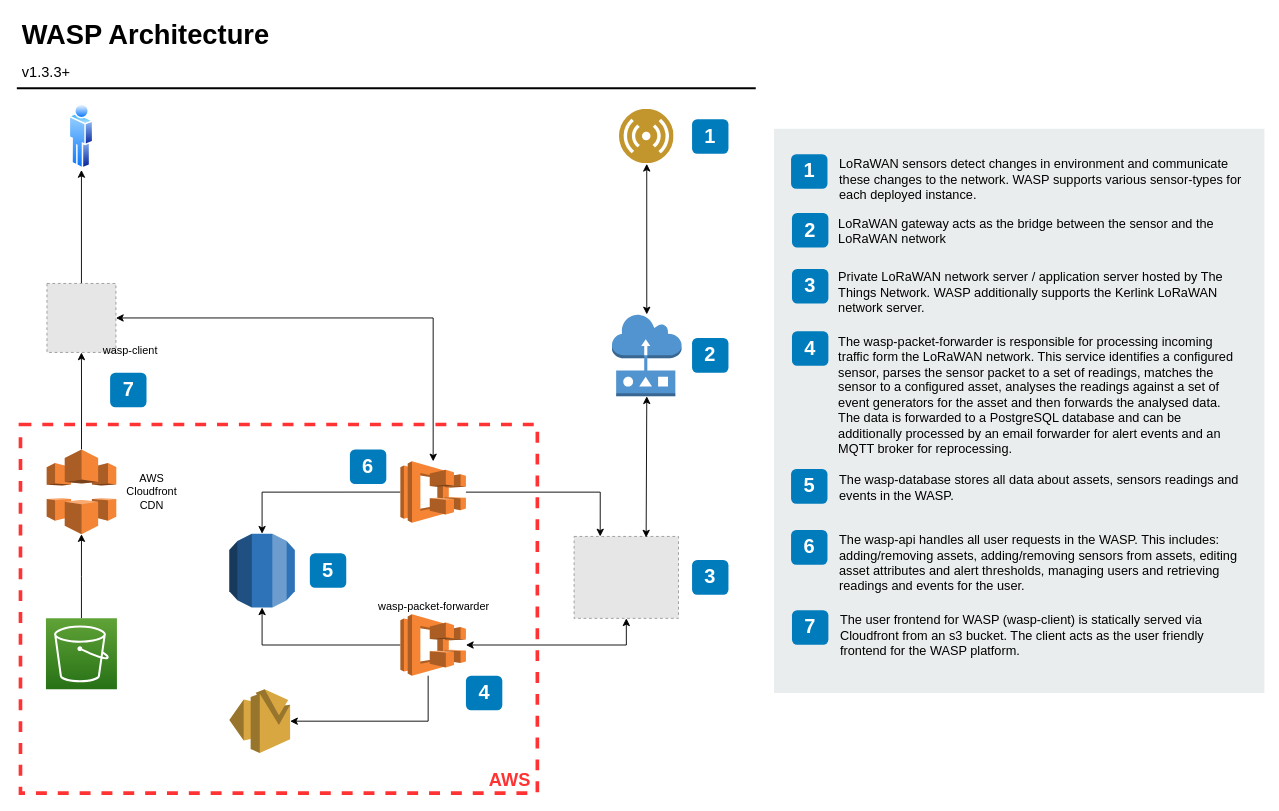
Some shapes in this 1279 by 811 pixel diagram are drawn without their labels. Grey dashed boxes stand in for pictures. The centre of each missing label's shape, as x and y in pixels:
AWS S3: [81,653]
AWS Simple Email Service: [259,720]
wasp-api: [432,491]
wasp-database: [261,570]
